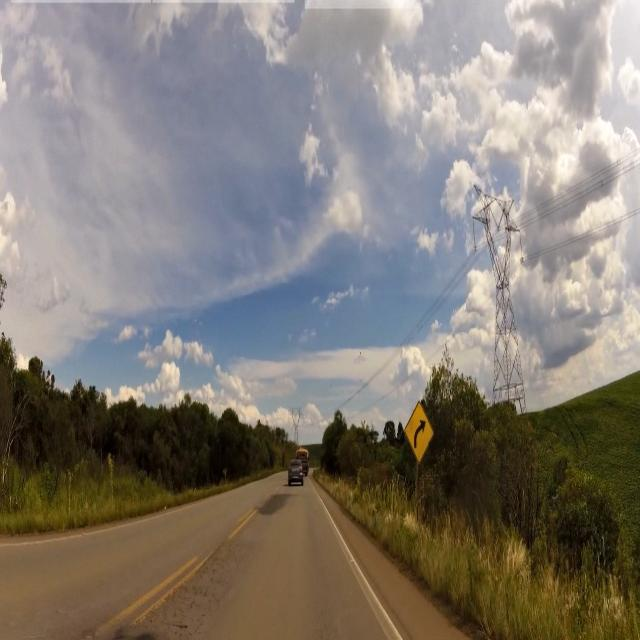A-2b: (403, 403, 435, 460)
